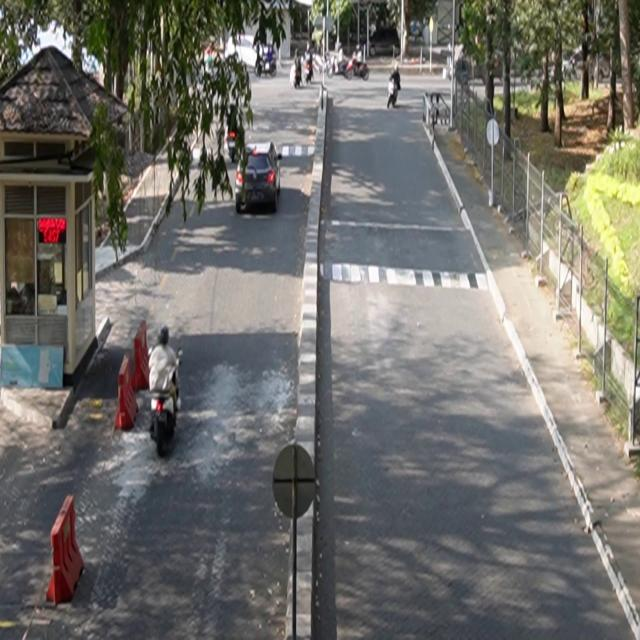car: (236, 141, 283, 215)
